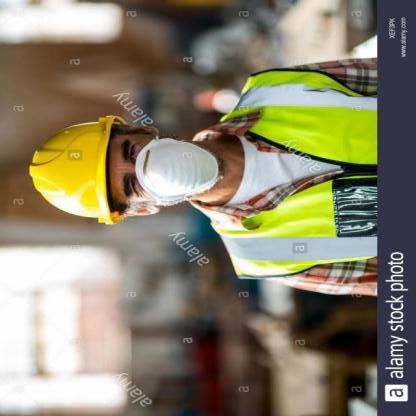vest: (211, 65, 372, 282)
yellow: (26, 110, 127, 236)
